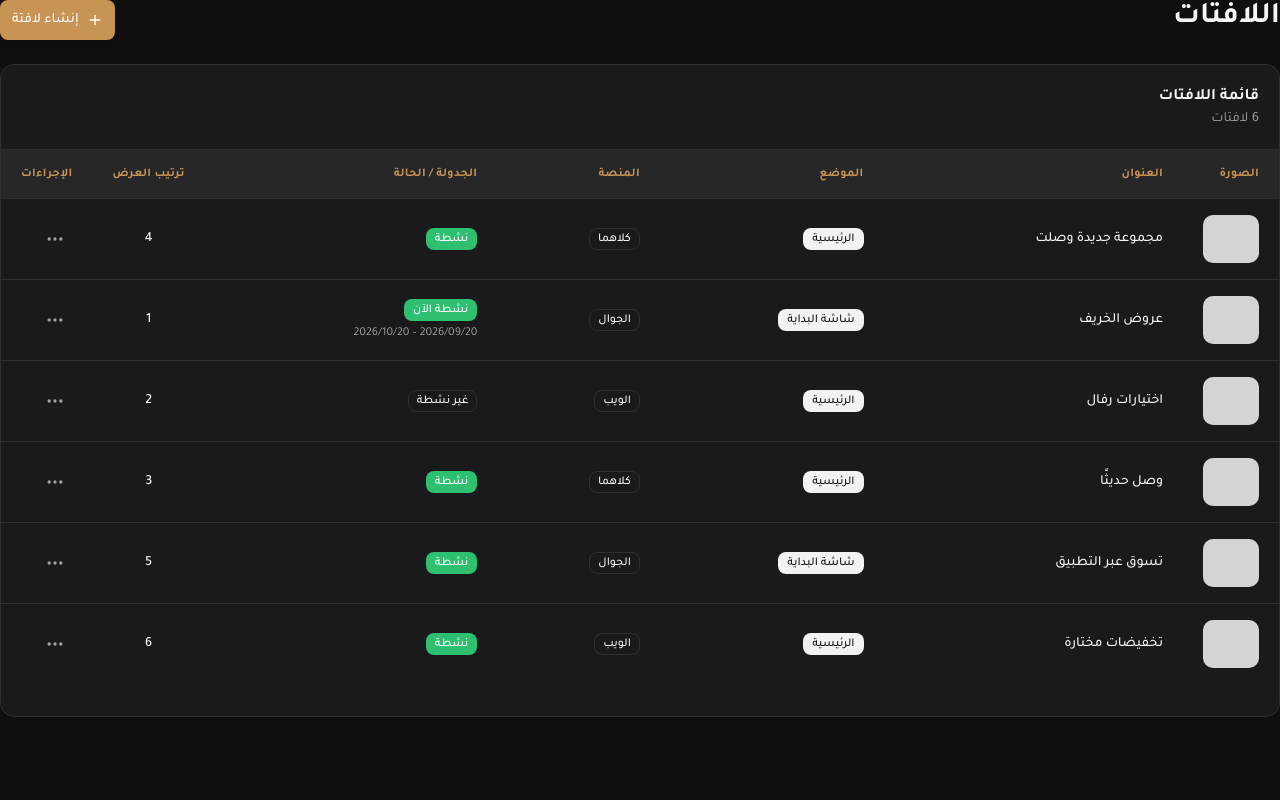
BannersPage › uses Arabic titles and keeps directional form controls usable in RTL
The image size is (1280, 800).
Click the button "إنشاء لافتة" at point(57, 20), box [0, 0, 115, 40]
(page scrolled)
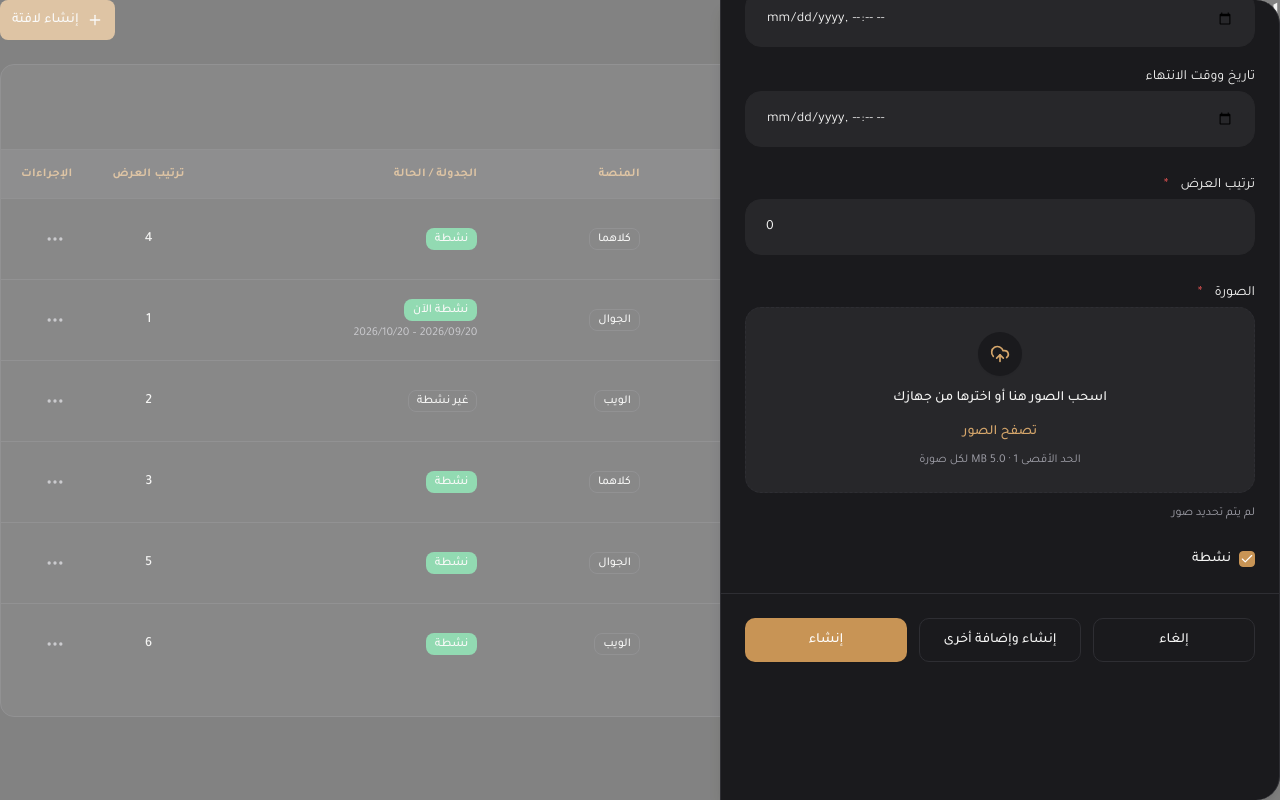
Check: the element named "الصورة" is shown, box [745, 307, 1255, 493]
